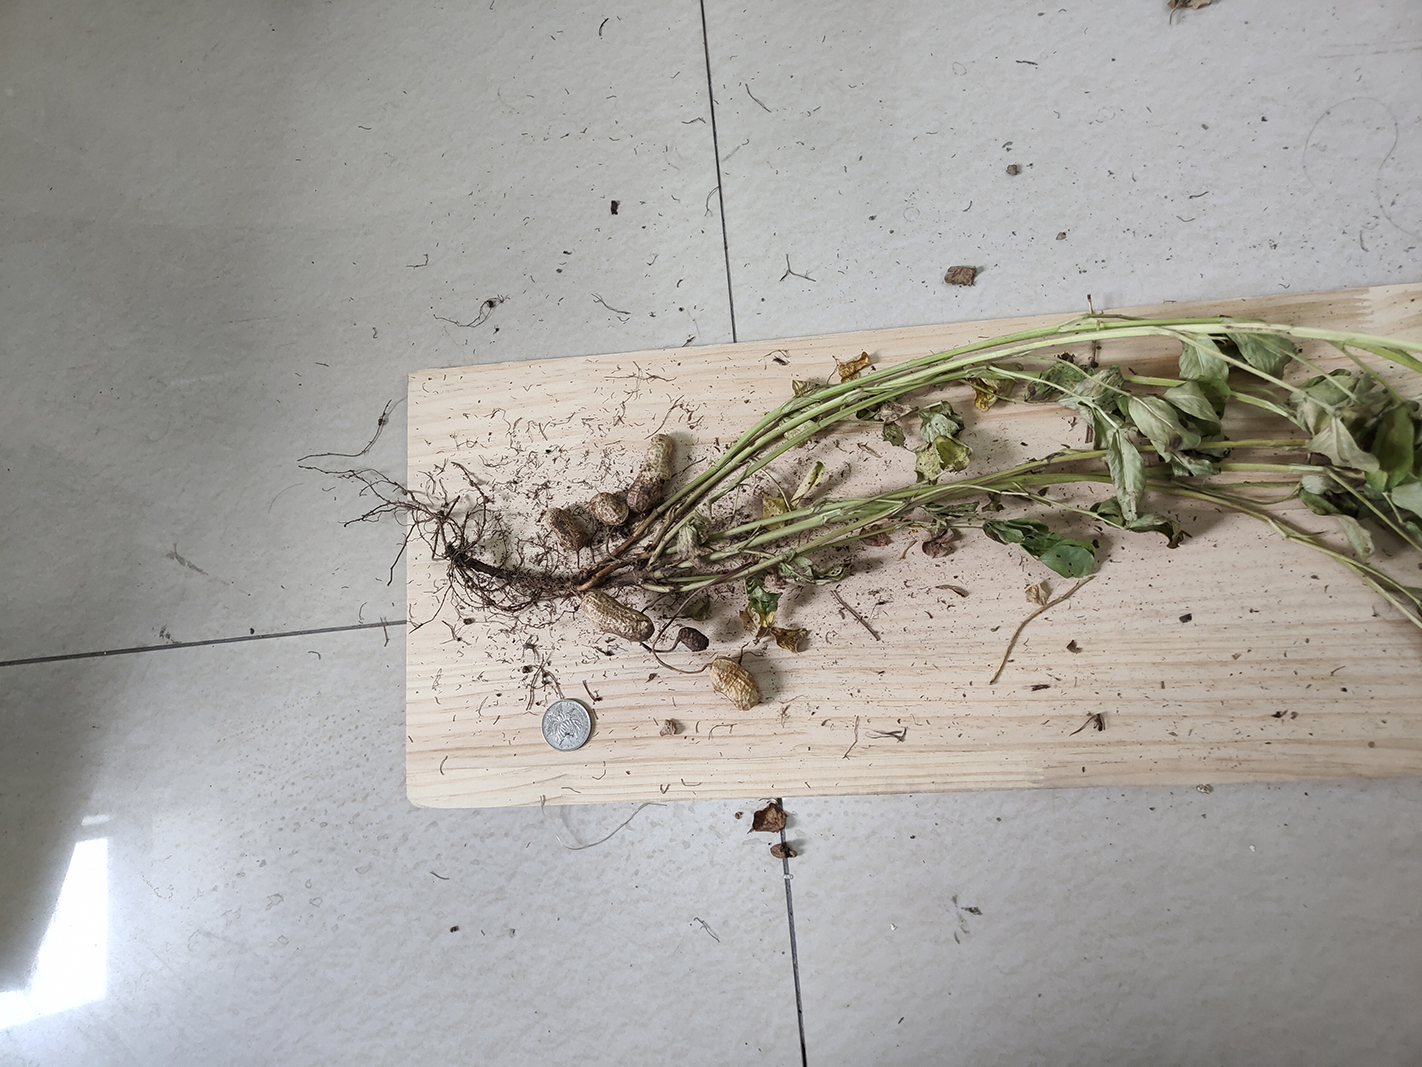h: (629, 433, 676, 516), (582, 592, 656, 643), (707, 657, 762, 709), (591, 493, 630, 527)
l: (545, 508, 587, 553), (677, 627, 710, 653)
